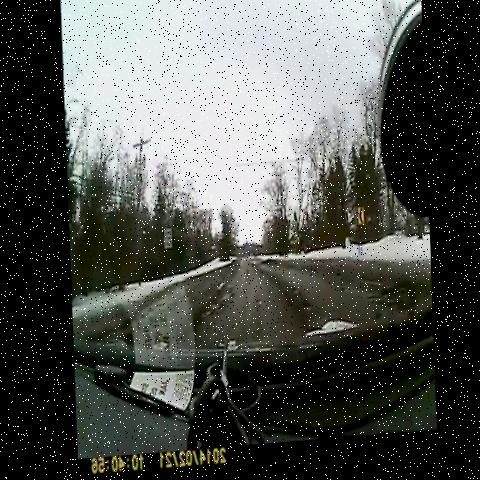pothole: (289, 294, 316, 325), (280, 279, 302, 306)
